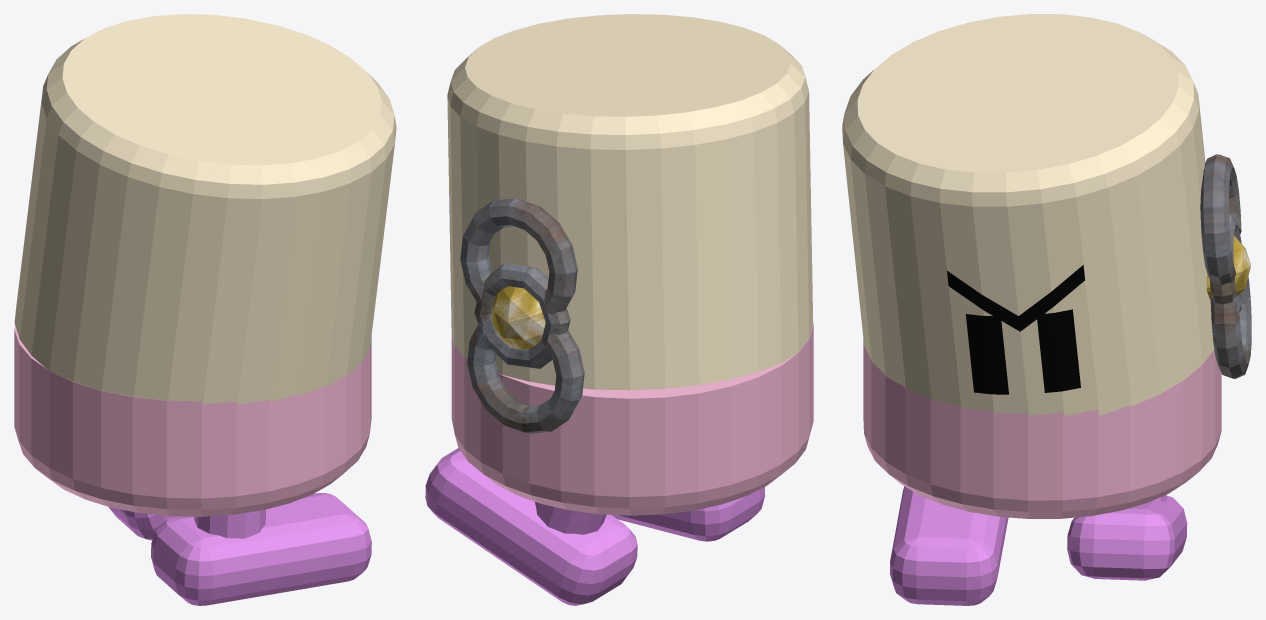
The model's file is Toasters045.obj.
3 renders of one model, left to right at view 1: azimuth 30°, elevation 25°; view 2: azimuth 150°, elevation 25°; view 3: azimuth 270°, elevation 25°, orthographic.
Parts seen in each view (by area): view 1: Head, Jaw, RightLeg, LeftLeg; view 2: Head, Jaw, WindupKey, LeftLeg, RightLeg; view 3: Head, Jaw, RightLeg, WindupKey, LeftLeg.
Boxes of the visible parts, <box> form: Head: <box>14,14,396,404</box>; Jaw: <box>14,325,371,516</box>; RightLeg: <box>151,492,371,605</box>; LeftLeg: <box>108,507,178,540</box>; Head: <box>447,14,813,390</box>; Jaw: <box>451,323,813,515</box>; WindupKey: <box>460,198,584,433</box>; LeftLeg: <box>425,448,637,605</box>; RightLeg: <box>612,487,765,541</box>; Head: <box>842,14,1214,415</box>; Jaw: <box>863,339,1221,518</box>; RightLeg: <box>890,486,1008,605</box>; WindupKey: <box>1200,154,1251,378</box>; LeftLeg: <box>1067,494,1187,580</box>.
Bounding box in the file's own units: 104 × 152 × 114.
6 materials, 2 textured.
